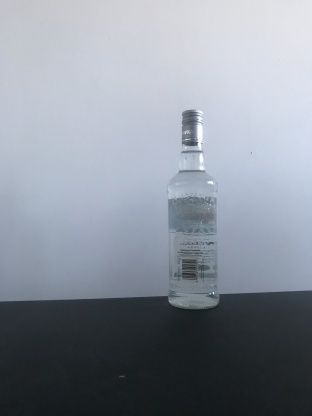nakretka: (180, 107, 204, 145)
